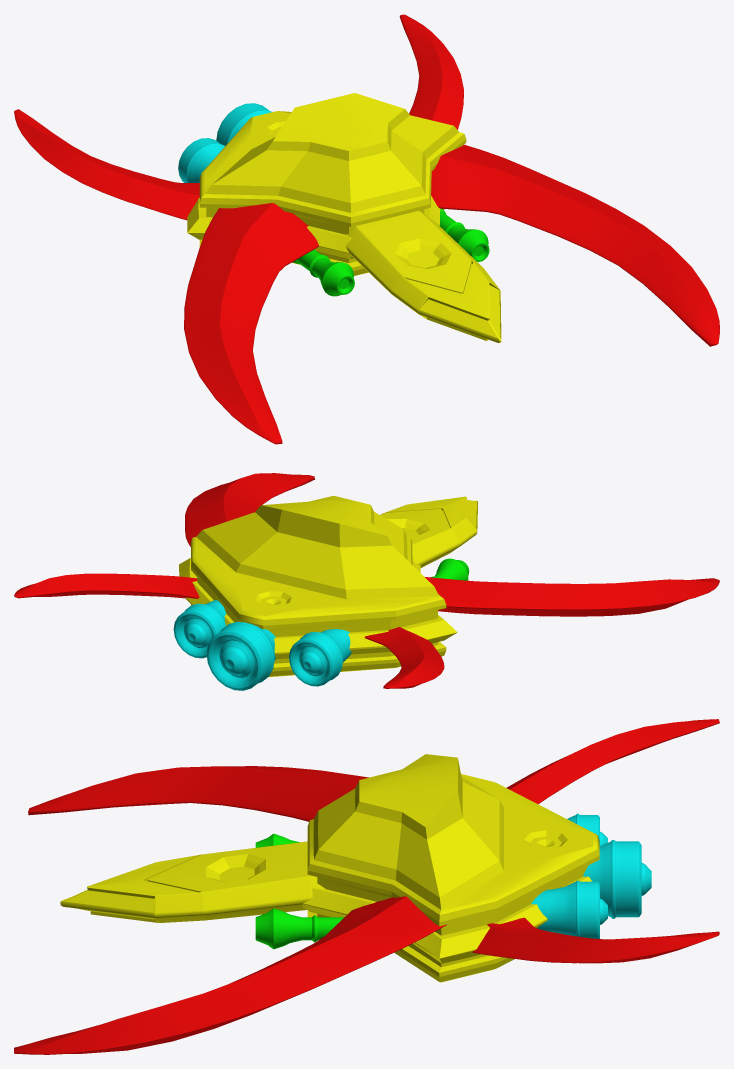
File: Enemigo_Basico_low.fbx
3 views of the same model, one above another, from view 1: azimuth 30°, elevation 25°; view 2: azimuth 150°, elevation 25°; view 3: azimuth 270°, elevation 25° (orthographic). The views are drawn at different scales.
Visible parts, largest first — view 1: alas_low, cuerpo_low, base_low, Canon_low, motores_low; view 2: cuerpo_low, alas_low, motores_low, base_low, Canon_low; view 3: cuerpo_low, alas_low, base_low, motores_low, Canon_low.
Boxes of the visible parts, x1,y1,x2,y2 form: alas_low: (14, 14, 719, 444); cuerpo_low: (187, 93, 466, 275); base_low: (345, 211, 501, 342); Canon_low: (293, 209, 489, 296); motores_low: (178, 103, 272, 182); cuerpo_low: (179, 495, 457, 677); alas_low: (14, 473, 719, 688); motores_low: (173, 600, 351, 690); base_low: (380, 496, 477, 567); Canon_low: (431, 558, 469, 580); cuerpo_low: (302, 754, 599, 982); alas_low: (14, 719, 719, 1054); base_low: (60, 841, 325, 922); motores_low: (531, 813, 651, 938); Canon_low: (255, 833, 343, 949).
Bounding box in the file's own units: 12.79 × 3.78 × 14.16.
